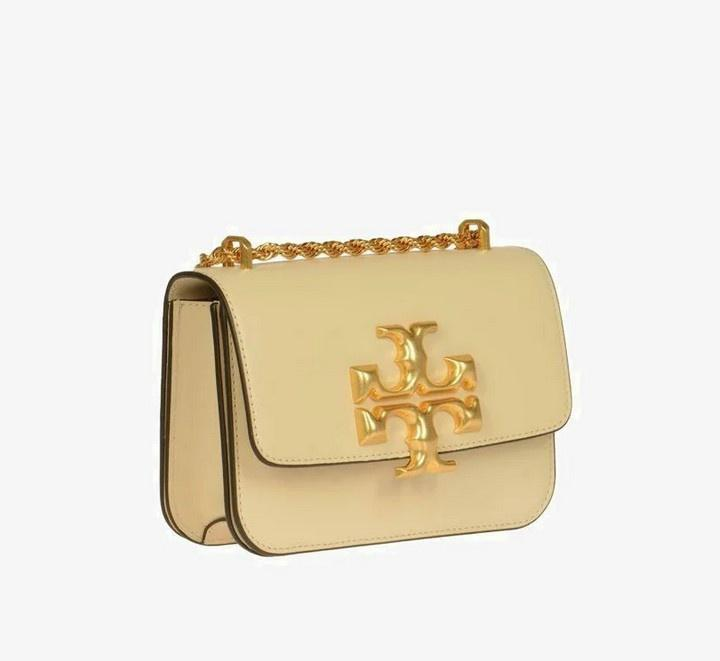TORY-BURCH: (349, 321, 483, 478)
